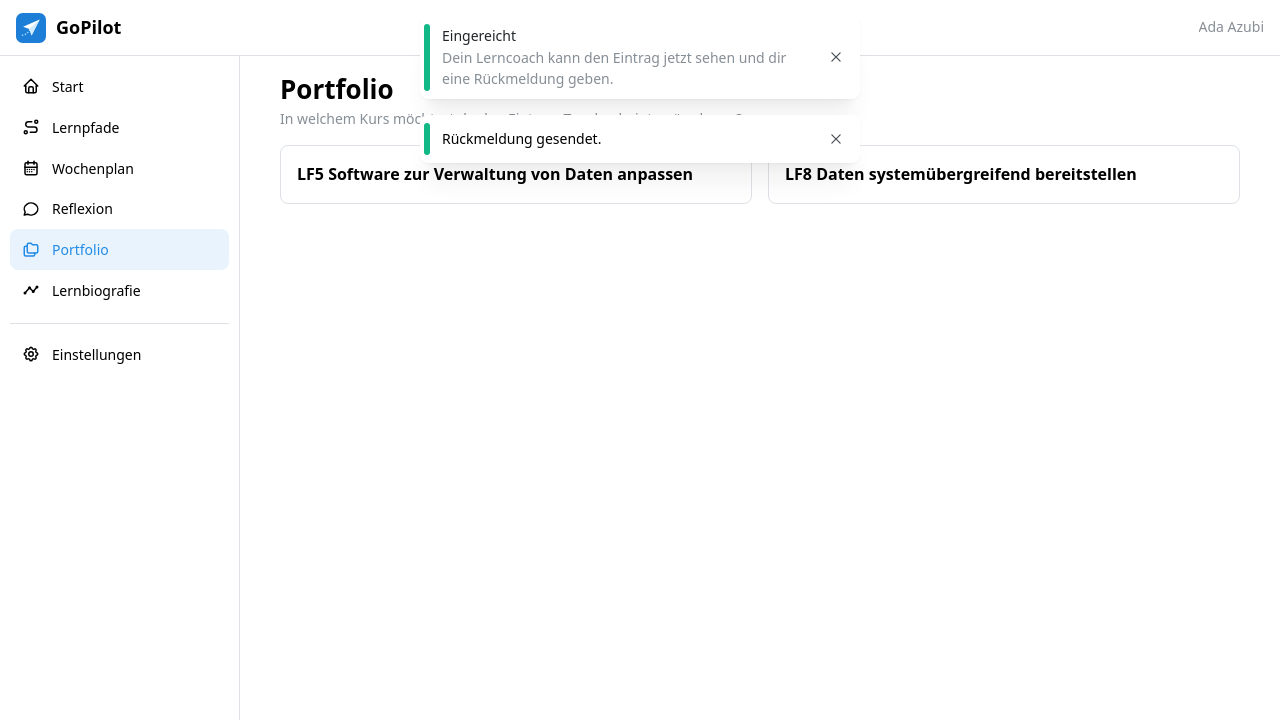
Portfolio-Links aus dem Teaching Assistant › /portfolio/neu/tagebuch öffnet einen Eintrag mit den Check-out-Fragen
Click the link "LF5 Software zur Verwaltung von Daten anpassen" at (516, 175), box 280,145 -> 752,204
(page scrolled)
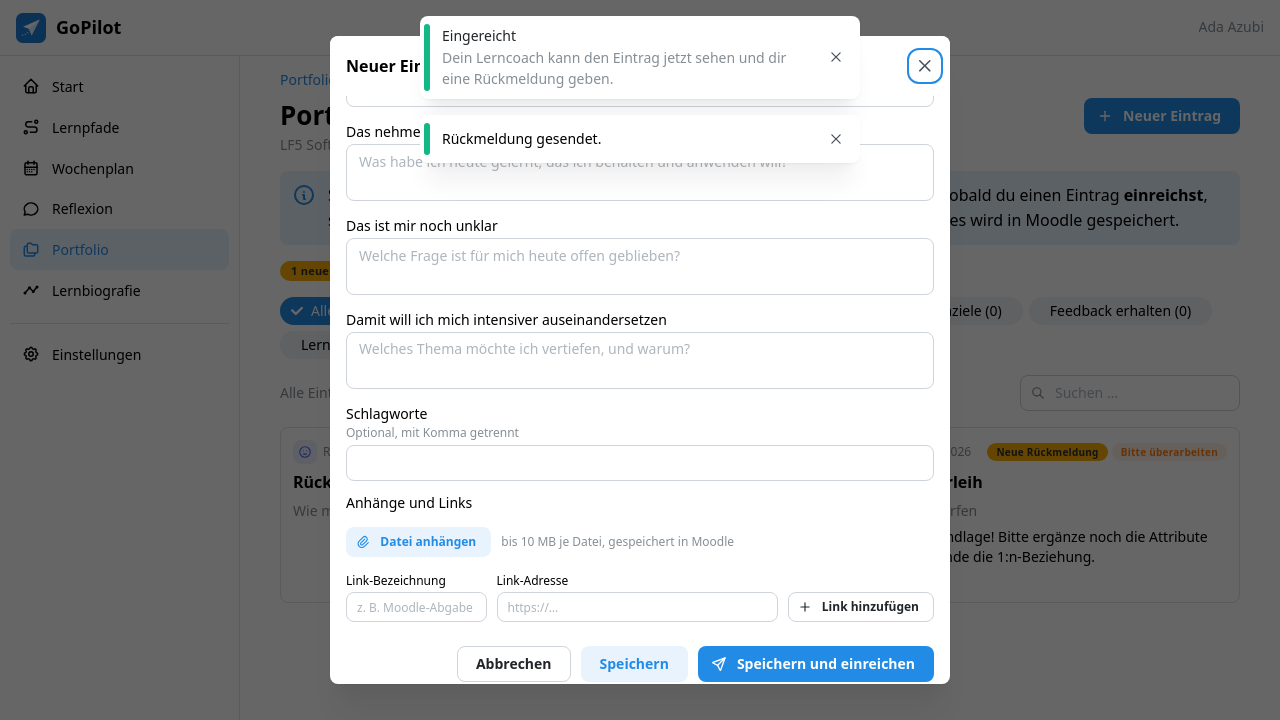
Now the text box labelled "Das nehme ich mit" is shown, box 346,144 -> 934,201
Now the text box labelled "Das ist mir noch unklar" is shown, box 346,238 -> 934,295
Now the text box labelled "Damit will ich mich intensiver auseinandersetzen" is shown, box 346,332 -> 934,389
